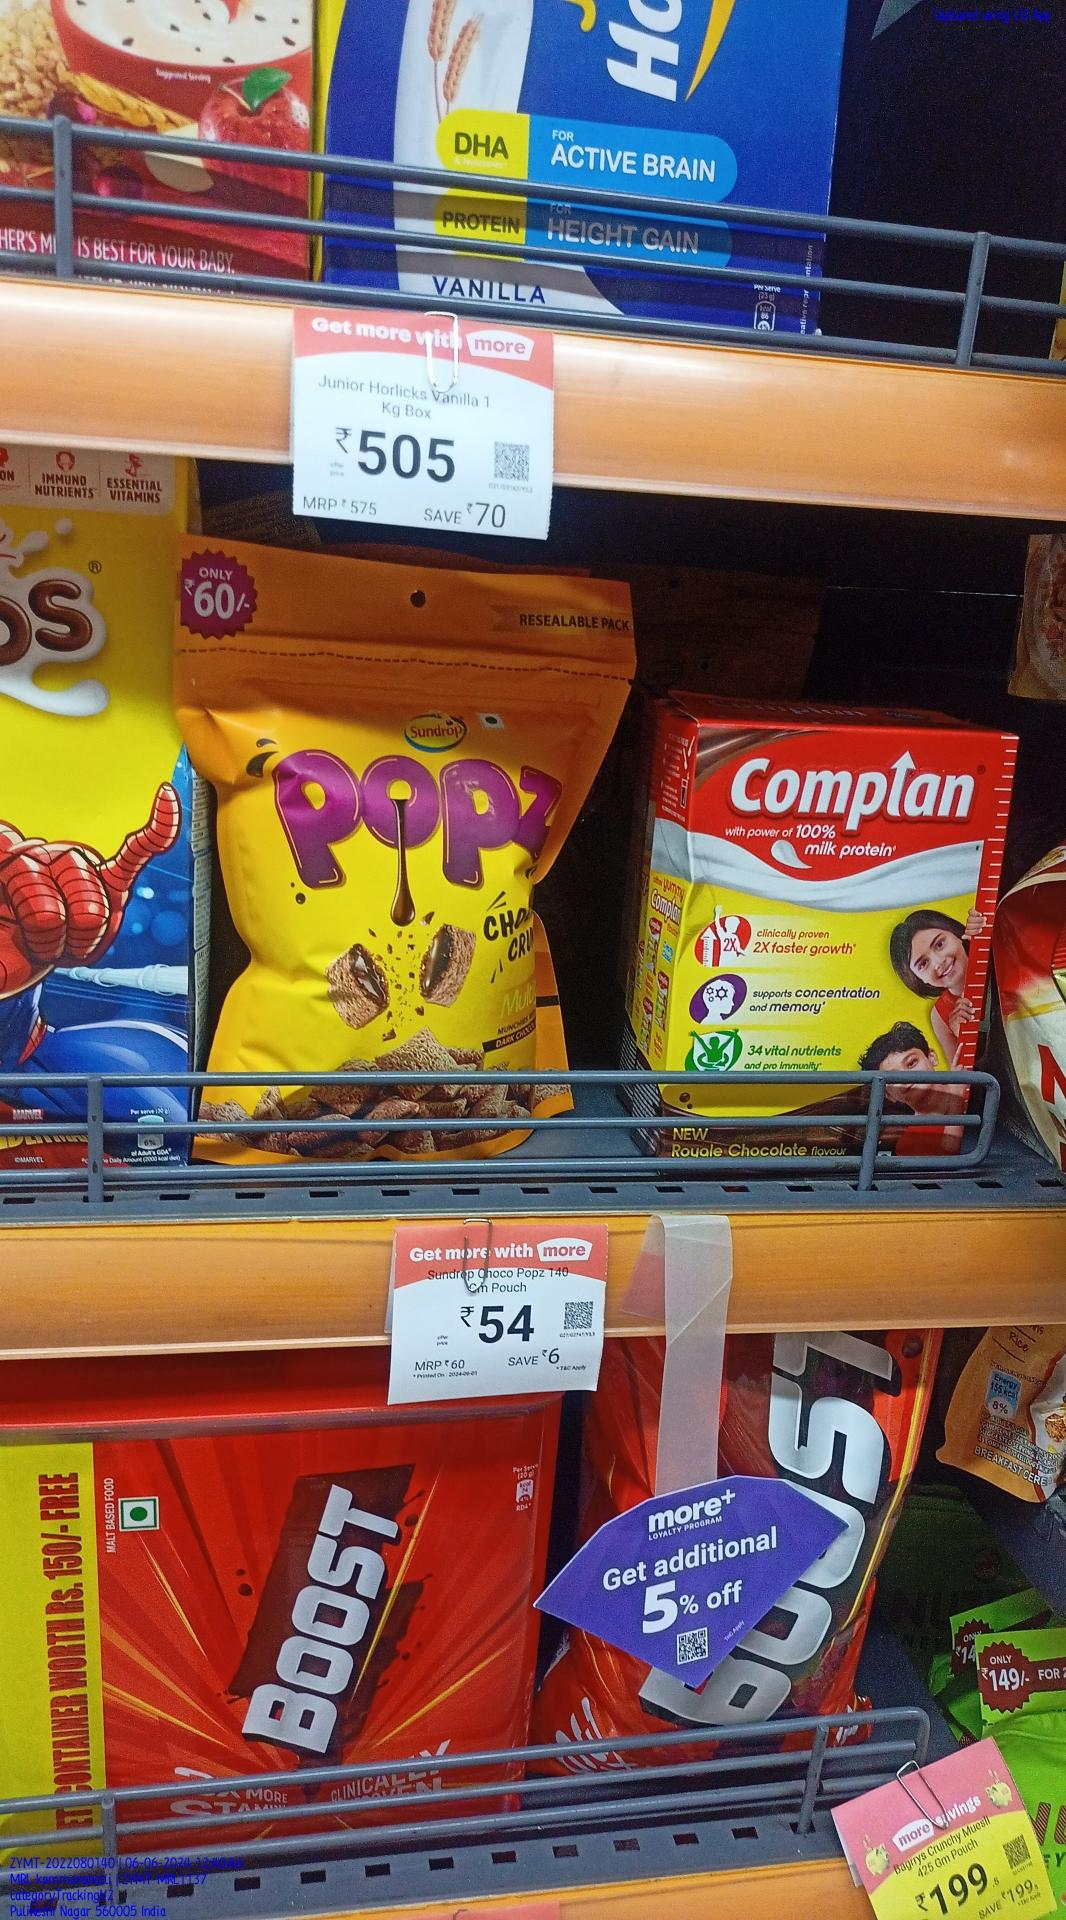COMPLAN_CHOCOLATE_500_GMS_PACK: (666, 713, 994, 1161)
